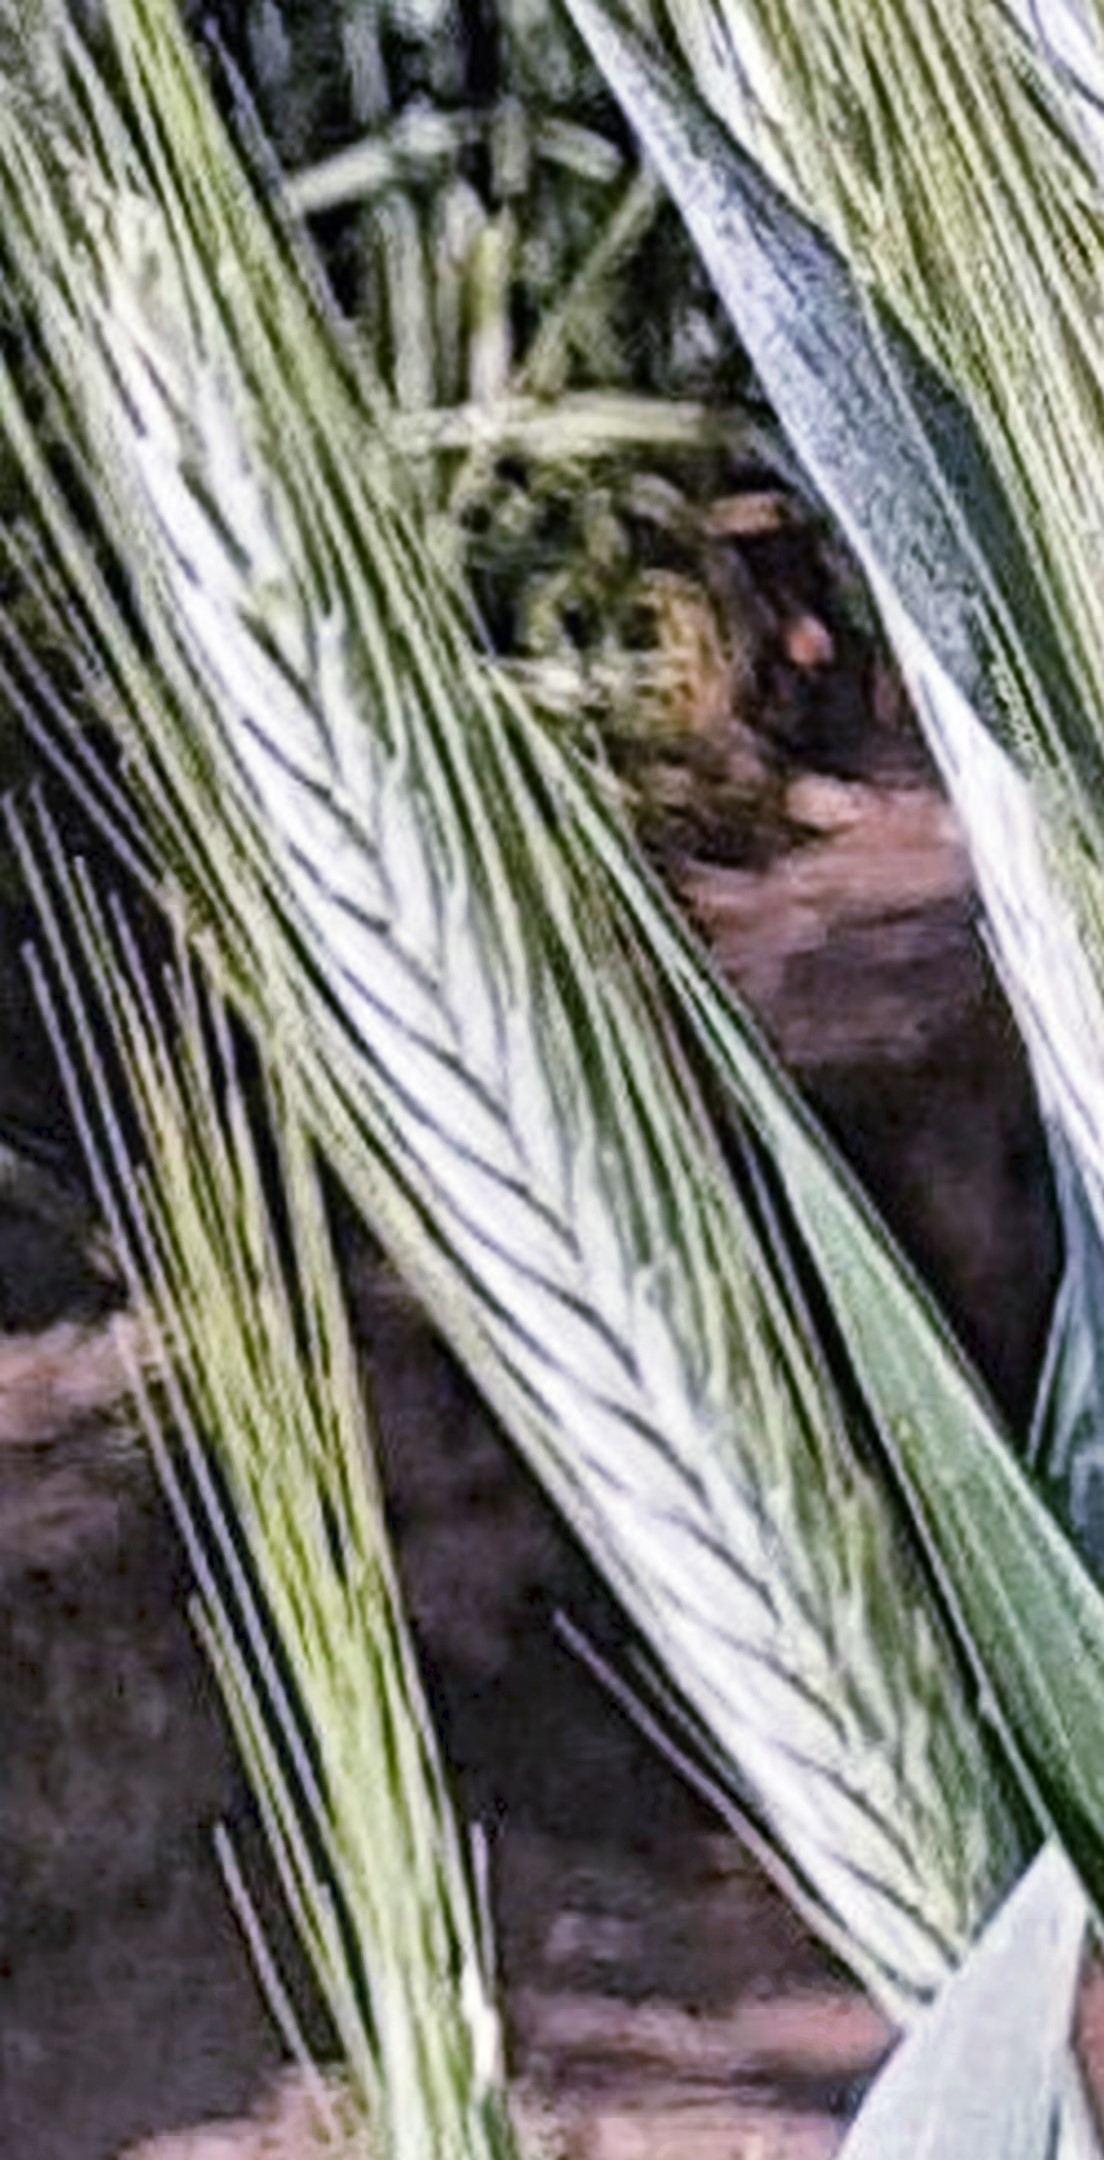Healthy Wheat: (25, 201, 1011, 1980)
